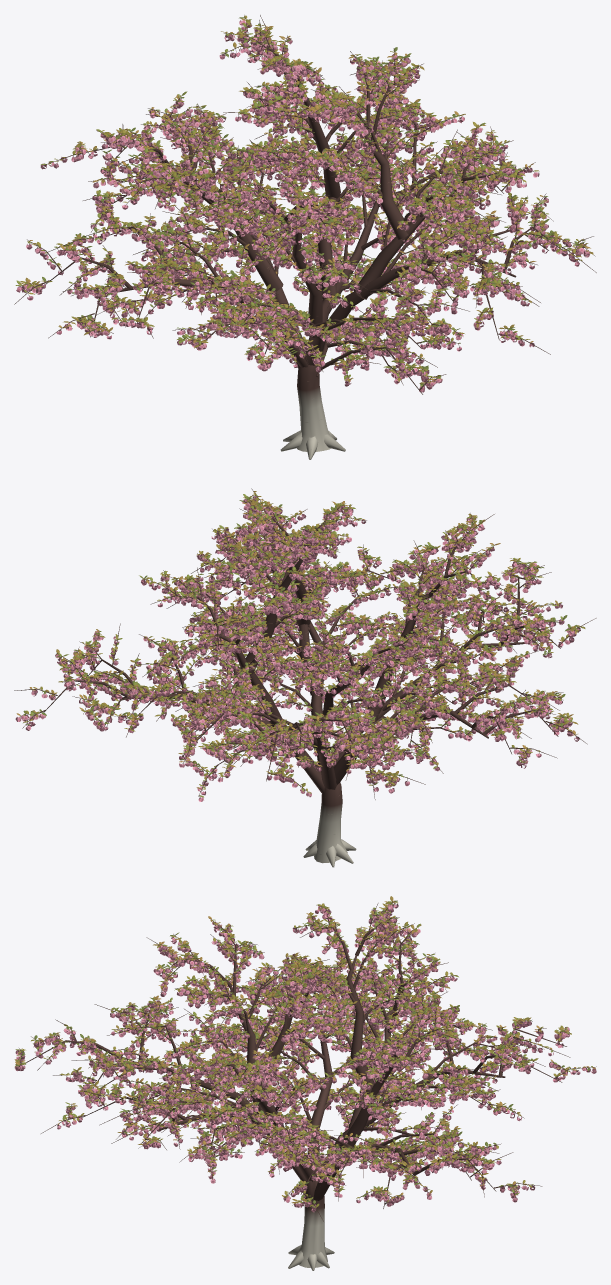
File: sakura_tree_as06_tall.glb
3 views of the same model, one above another, from view 1: azimuth 30°, elevation 25°; view 2: azimuth 150°, elevation 25°; view 3: azimuth 270°, elevation 25° (orthographic). The views are drawn at different scales.
Visible parts, largest first — view 1: AS06_DoubleFlowers, AS06_BronzeLeaves, AS06_Twigs, AS06_Bark; view 2: AS06_DoubleFlowers, AS06_BronzeLeaves, AS06_Twigs, AS06_Bark; view 3: AS06_DoubleFlowers, AS06_BronzeLeaves, AS06_Twigs, AS06_Bark.
Boxes of the visible parts, x1,y1,x2,y2 form: AS06_DoubleFlowers: (16, 20, 589, 392); AS06_BronzeLeaves: (15, 15, 593, 386); AS06_Twigs: (14, 15, 596, 449); AS06_Bark: (107, 86, 516, 459); AS06_DoubleFlowers: (15, 495, 580, 801); AS06_BronzeLeaves: (16, 491, 585, 797); AS06_Twigs: (14, 488, 596, 857); AS06_Bark: (122, 559, 524, 867); AS06_DoubleFlowers: (15, 903, 596, 1212); AS06_BronzeLeaves: (14, 896, 595, 1207); AS06_Twigs: (18, 901, 596, 1262); AS06_Bark: (159, 955, 505, 1270).
Size of the model in its own units: 9.14 by 6.74 by 10.08.
4 materials, 1 textured.
